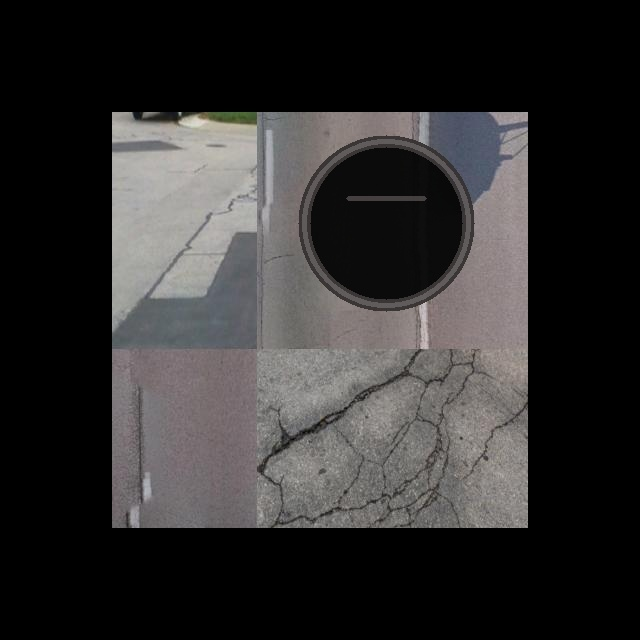open_manhole: (295, 132, 477, 314)
